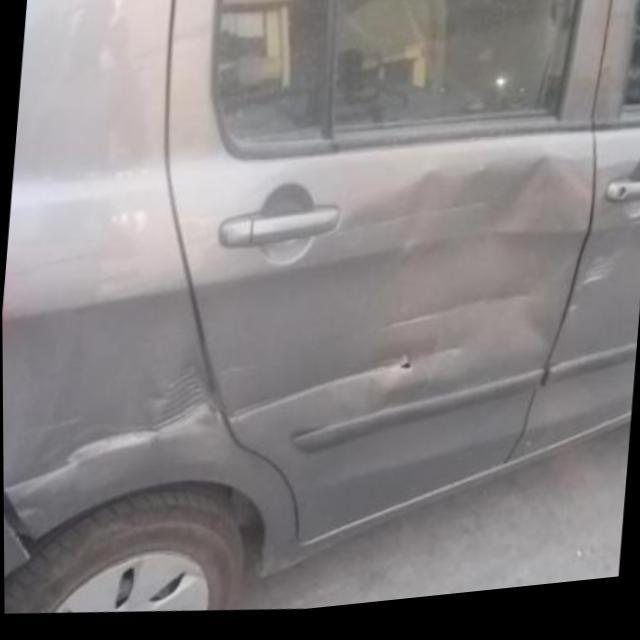crack: (3, 481, 37, 567)
dent: (343, 174, 586, 374)
rub: (154, 367, 222, 447), (572, 262, 626, 301)
scratch: (3, 401, 227, 501), (225, 346, 466, 432), (374, 295, 538, 351), (339, 203, 497, 251), (217, 364, 258, 388), (566, 310, 581, 333), (396, 365, 413, 381)
